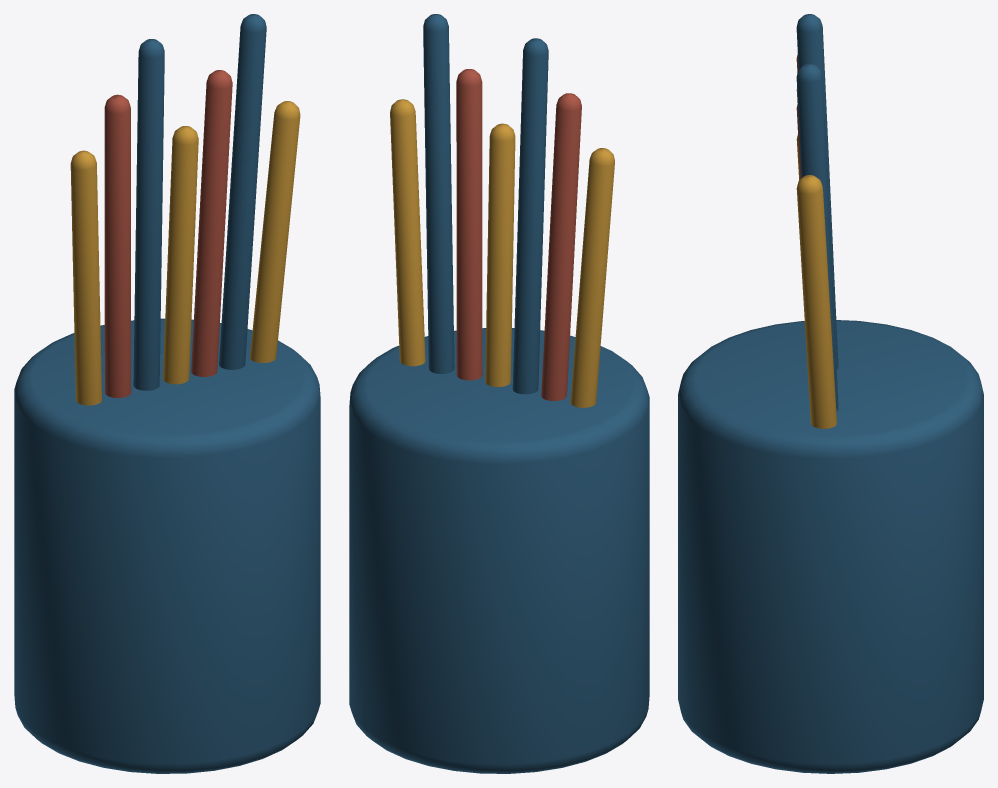
File: urban-pencil-cup-v1.glb
3 views of the same model, side by side, from view 1: azimuth 30°, elevation 25°; view 2: azimuth 150°, elevation 25°; view 3: azimuth 270°, elevation 25° (orthographic). The views are drawn at different scales.
Visible parts, largest first — view 1: Pencil cup, Colour pencil.005, Colour pencil.002, Colour pencil.004, Colour pencil.001, Colour pencil.006, Colour pencil.003, Colour pencil; view 2: Pencil cup, Colour pencil.005, Colour pencil.002, Colour pencil.004, Colour pencil.001, Colour pencil.006, Colour pencil.003, Colour pencil; view 3: Pencil cup, Colour pencil.006, Colour pencil.005, Colour pencil.002.
Boxes of the visible parts, bbox=[...] form: Pencil cup: bbox=[14, 318, 320, 773]; Colour pencil.005: bbox=[219, 14, 266, 369]; Colour pencil.002: bbox=[133, 39, 164, 390]; Colour pencil.004: bbox=[191, 70, 232, 376]; Colour pencil.001: bbox=[104, 94, 131, 397]; Colour pencil.006: bbox=[250, 101, 300, 362]; Colour pencil.003: bbox=[163, 126, 198, 384]; Colour pencil: bbox=[70, 150, 101, 405]; Pencil cup: bbox=[349, 328, 649, 773]; Colour pencil.005: bbox=[423, 14, 454, 373]; Colour pencil.002: bbox=[512, 38, 548, 394]; Colour pencil.004: bbox=[456, 69, 482, 380]; Colour pencil.001: bbox=[541, 93, 581, 400]; Colour pencil.006: bbox=[390, 99, 425, 366]; Colour pencil.003: bbox=[485, 123, 515, 386]; Colour pencil: bbox=[570, 148, 614, 407]; Pencil cup: bbox=[678, 320, 983, 773]; Colour pencil.006: bbox=[796, 175, 836, 428]; Colour pencil.005: bbox=[796, 63, 838, 411]; Colour pencil.002: bbox=[796, 14, 838, 369].
Size of the model in its own units: 0.07 by 0.1735 by 0.07.
3 materials, 3 textured.
